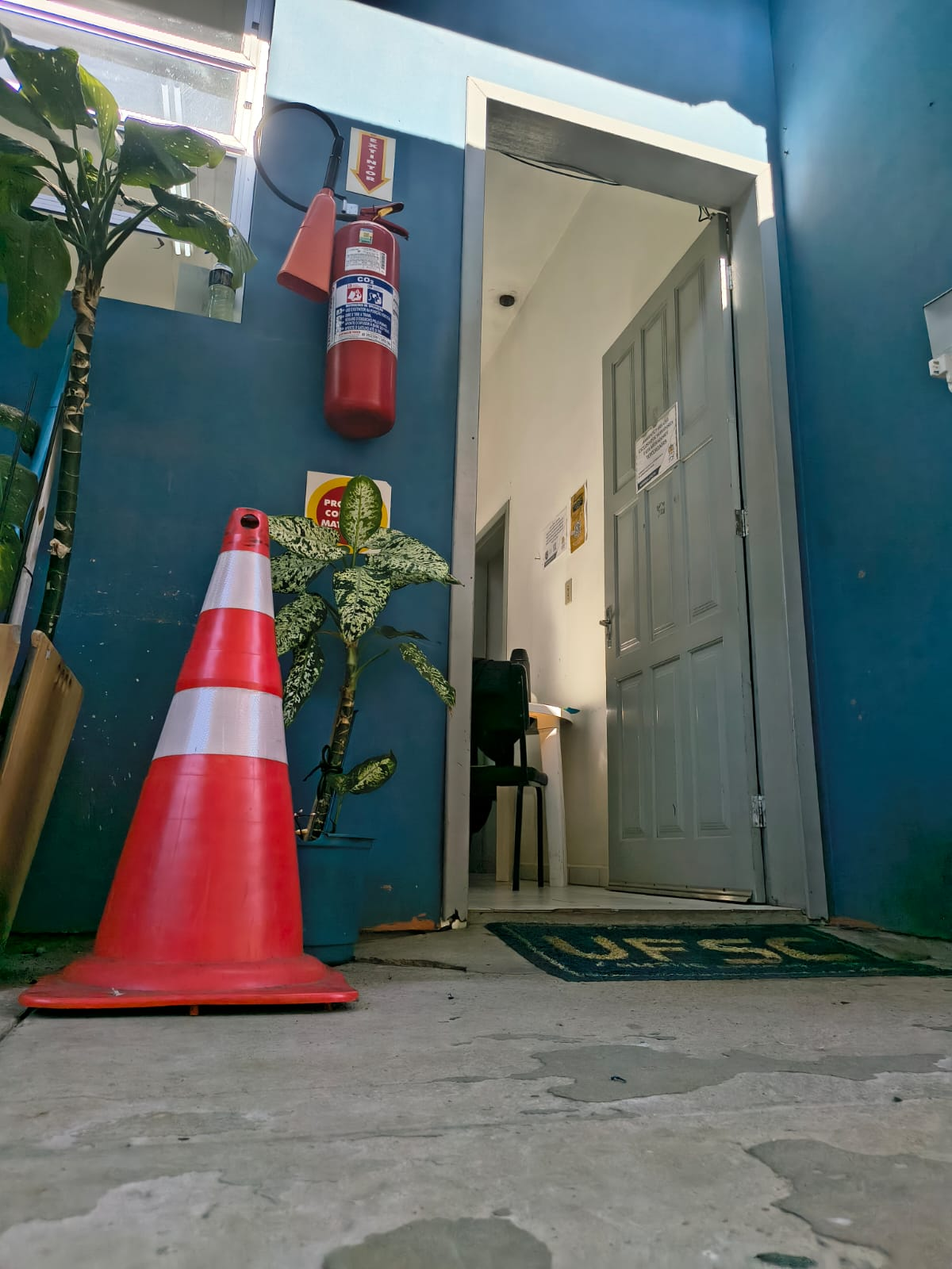cone: (37, 490, 366, 1031)
